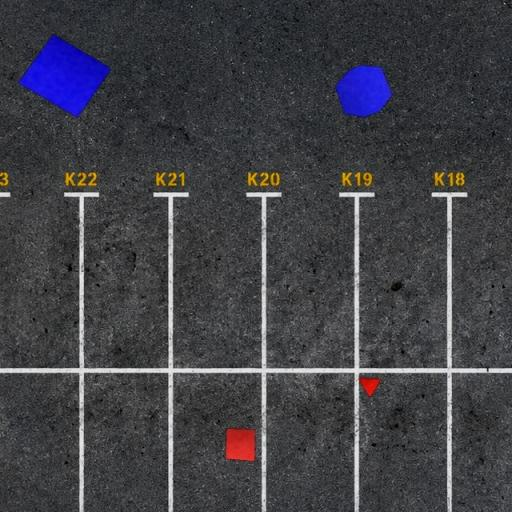BLUE_SQUARE: (18, 34, 112, 118)
RED_SQUARE: (225, 428, 256, 462)
